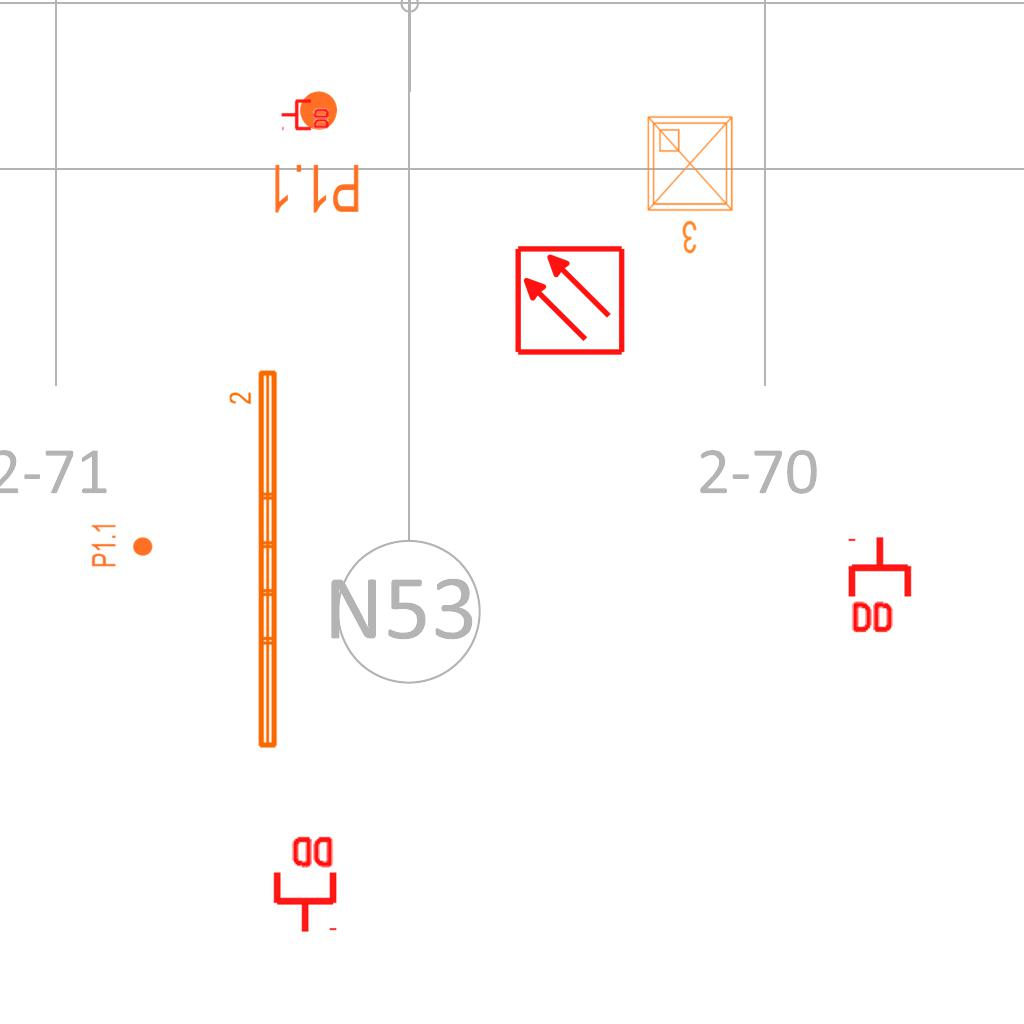Ambulanz_Pendelleuchte_LED: (227, 366, 283, 753)
Datenanschluss_zweifach: (847, 534, 916, 637), (269, 832, 338, 935), (280, 97, 331, 131)
Downlight_LED_Einbauleuchten_Flur: (269, 88, 362, 216), (90, 522, 154, 568)
Einbaudownlights_LED_Konferenzraeume: (640, 109, 744, 259)
RMO_Rauchmelder_optischer: (513, 244, 626, 357)
